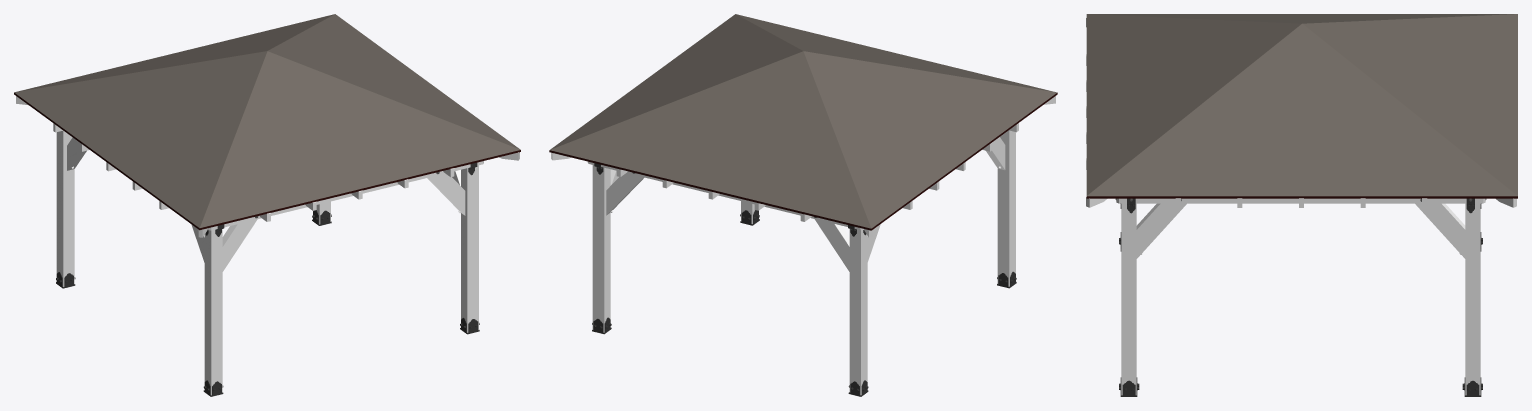
Rendered from saratoga-14x14-flush.obj.
3 renders of one model, left to right at view 1: azimuth 30°, elevation 25°; view 2: azimuth 150°, elevation 25°; view 3: azimuth 270°, elevation 25°, orthographic. The views are drawn at different scales.
Visible parts, largest first — view 1: Mesh226 shingles roof Group1 Model, Mesh177 Group70 Component_92_4 Group1 Model, Mesh79 Group42 Component_92_2 Group1 Model, Mesh128 Group56 Component_92_3 Group1 Model, Mesh227 roof Group1 Model, Mesh75 Component_135_1 Group1 Model, Mesh217 Component_91_7 Component_92_4 Group1 Model, Mesh119 Component_91_3 Component_92_2 Group1 Model; view 2: Mesh226 shingles roof Group1 Model, Mesh128 Group56 Component_92_3 Group1 Model, Mesh1 Group3 Component_92_1 Group2 Group1 Model, Mesh177 Group70 Component_92_4 Group1 Model, Mesh227 roof Group1 Model, Mesh168 Component_91_5 Component_92_3 Group1 Model, Mesh41 Component_91_1 Component_92_1 Group2 Group1 Model, Mesh77 Component_135_2 Group1 Model; view 3: Mesh226 shingles roof Group1 Model, Mesh1 Group3 Component_92_1 Group2 Group1 Model, Mesh79 Group42 Component_92_2 Group1 Model, Mesh78 Component_134_2 Group1 Model, Mesh227 roof Group1 Model, Mesh123 Component_91_4 Component_92_2 Group1 Model, Mesh45 Component_91_2 Component_92_1 Group2 Group1 Model.
Boxes of the visible parts, x1=… form: Mesh226 shingles roof Group1 Model: x1=14, y1=14, x2=520, y2=228; Mesh177 Group70 Component_92_4 Group1 Model: x1=204, y1=229, x2=222, y2=395; Mesh79 Group42 Component_92_2 Group1 Model: x1=461, y1=165, x2=478, y2=332; Mesh128 Group56 Component_92_3 Group1 Model: x1=56, y1=130, x2=74, y2=286; Mesh227 roof Group1 Model: x1=14, y1=92, x2=520, y2=230; Mesh75 Component_135_1 Group1 Model: x1=207, y1=161, x2=483, y2=230; Mesh217 Component_91_7 Component_92_4 Group1 Model: x1=222, y1=219, x2=257, y2=271; Mesh119 Component_91_3 Component_92_2 Group1 Model: x1=427, y1=173, x2=465, y2=215; Mesh226 shingles roof Group1 Model: x1=550, y1=14, x2=1056, y2=228; Mesh128 Group56 Component_92_3 Group1 Model: x1=849, y1=229, x2=867, y2=395; Mesh1 Group3 Component_92_1 Group2 Group1 Model: x1=592, y1=165, x2=610, y2=332; Mesh177 Group70 Component_92_4 Group1 Model: x1=997, y1=130, x2=1015, y2=286; Mesh227 roof Group1 Model: x1=549, y1=92, x2=1057, y2=230; Mesh168 Component_91_5 Component_92_3 Group1 Model: x1=814, y1=219, x2=849, y2=271; Mesh41 Component_91_1 Component_92_1 Group2 Group1 Model: x1=606, y1=173, x2=644, y2=215; Mesh77 Component_135_2 Group1 Model: x1=587, y1=161, x2=863, y2=230; Mesh226 shingles roof Group1 Model: x1=1086, y1=14, x2=1517, y2=196; Mesh1 Group3 Component_92_1 Group2 Group1 Model: x1=1465, y1=203, x2=1480, y2=395; Mesh79 Group42 Component_92_2 Group1 Model: x1=1121, y1=203, x2=1136, y2=395; Mesh78 Component_134_2 Group1 Model: x1=1126, y1=198, x2=1475, y2=203; Mesh227 roof Group1 Model: x1=1086, y1=196, x2=1517, y2=198; Mesh123 Component_91_4 Component_92_2 Group1 Model: x1=1136, y1=203, x2=1186, y2=258; Mesh45 Component_91_2 Component_92_1 Group2 Group1 Model: x1=1415, y1=203, x2=1465, y2=258.
Size of the model in its own units: 168 by 128 by 168.
